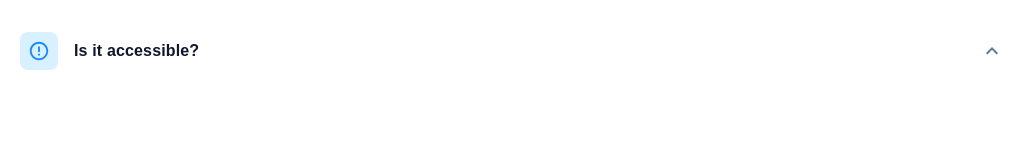
CrvAccordion › expands when trigger is clicked
Click the button "Is it accessible?". click: x=39, y=51
box: [20,20,1004,82]
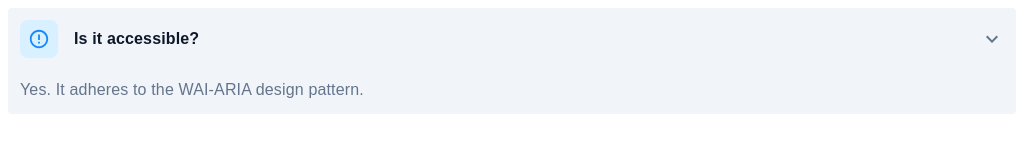
Expected: the text "Yes. It adheres to the WAI-ARIA design pattern." is shown, [20,81,364,98]
